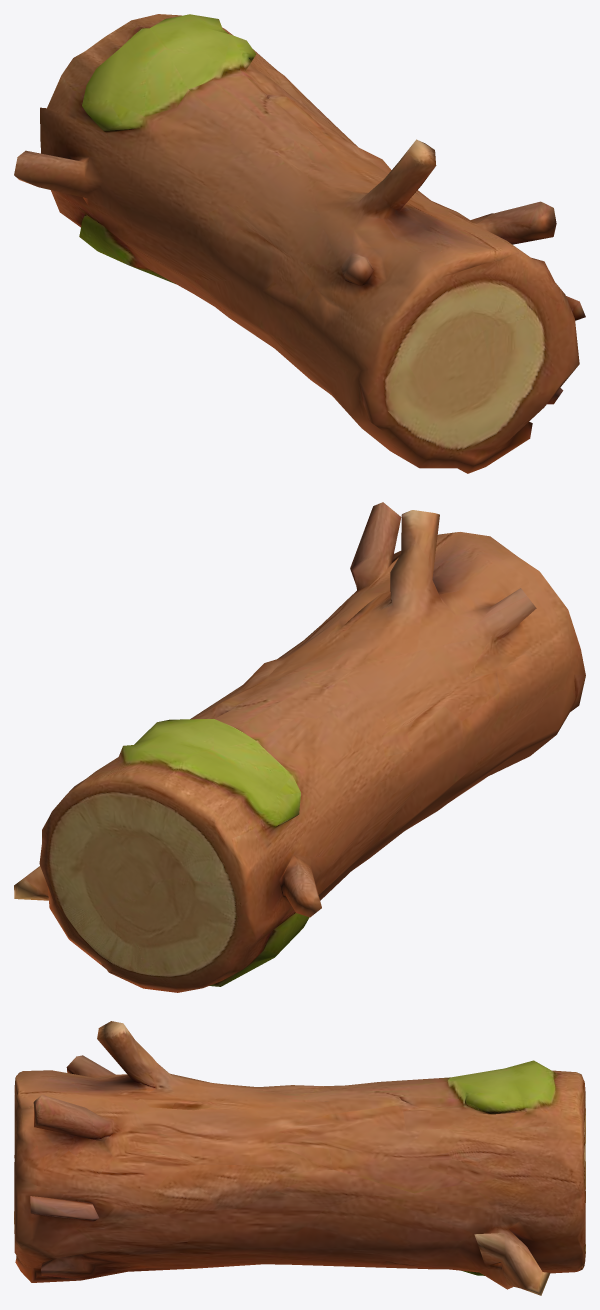
The model's file is prop-log.glb.
The picture shows the model from 3 angles, top to bottom: view 1: azimuth 30°, elevation 25°; view 2: azimuth 150°, elevation 25°; view 3: azimuth 270°, elevation 25°; orthographic projection. The views are drawn at different scales.
Parts seen in each view (by area): view 1: tripo_node_24313801-dce3-4ab1-b1b2-e4e63bbb854b; view 2: tripo_node_24313801-dce3-4ab1-b1b2-e4e63bbb854b; view 3: tripo_node_24313801-dce3-4ab1-b1b2-e4e63bbb854b.
Part boxes in pixels (<box>): tripo_node_24313801-dce3-4ab1-b1b2-e4e63bbb854b: <box>14,14,585,473</box>; tripo_node_24313801-dce3-4ab1-b1b2-e4e63bbb854b: <box>14,502,585,992</box>; tripo_node_24313801-dce3-4ab1-b1b2-e4e63bbb854b: <box>14,1021,585,1295</box>.
Size of the model in its own units: 0.5262 by 0.4784 by 0.9803.
1 material, 1 textured.
